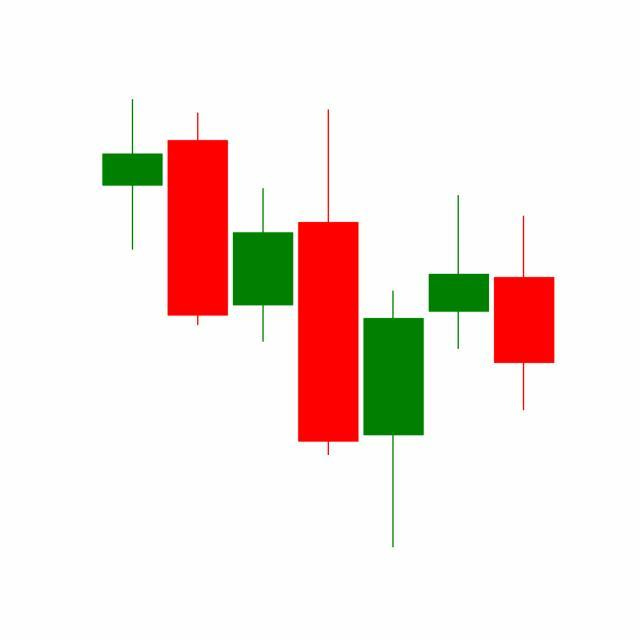Upside-Downside Gap Three Methods: (360, 191, 556, 549)
